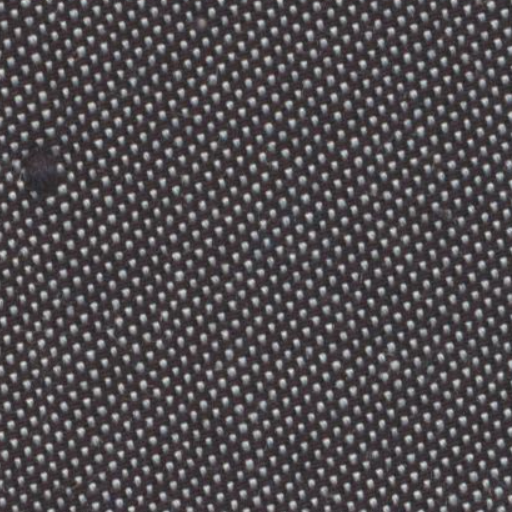MianQiu: (9, 122, 86, 214)
